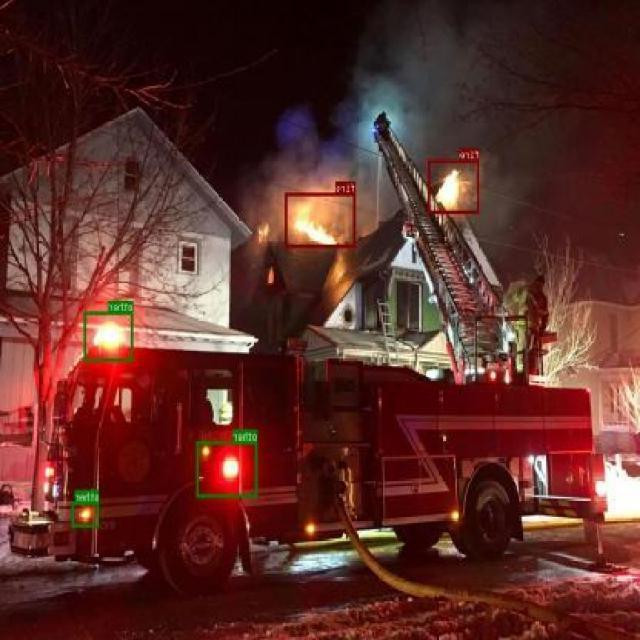Fire: (286, 192, 356, 248), (428, 159, 481, 213)
